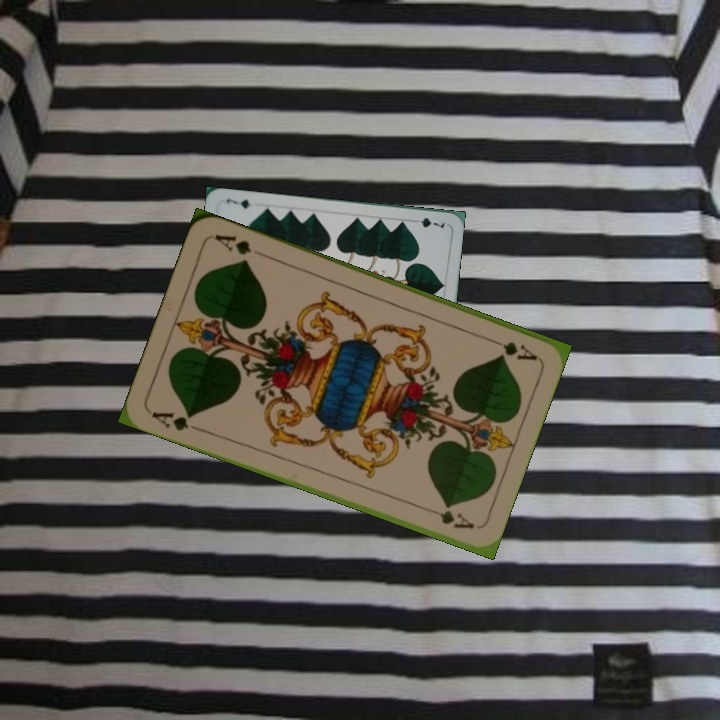G7: (407, 213, 447, 230)
GA: (483, 333, 540, 363), (147, 407, 205, 435)
